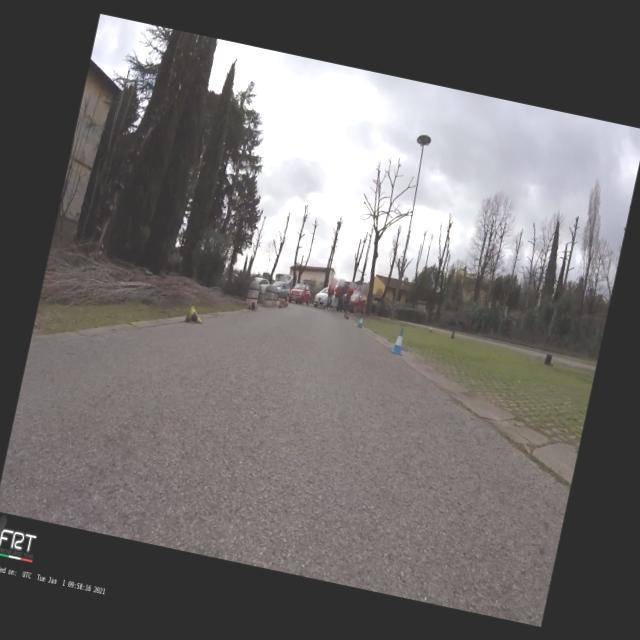blue_cone: (389, 326, 408, 356), (356, 315, 364, 328)
large_orange_cone: (344, 310, 350, 320), (286, 296, 290, 306)
orange_cone: (544, 353, 554, 367)
unknown_cone: (450, 329, 456, 338), (278, 302, 282, 309)
yellow_cone: (184, 304, 205, 326), (246, 301, 256, 311)
